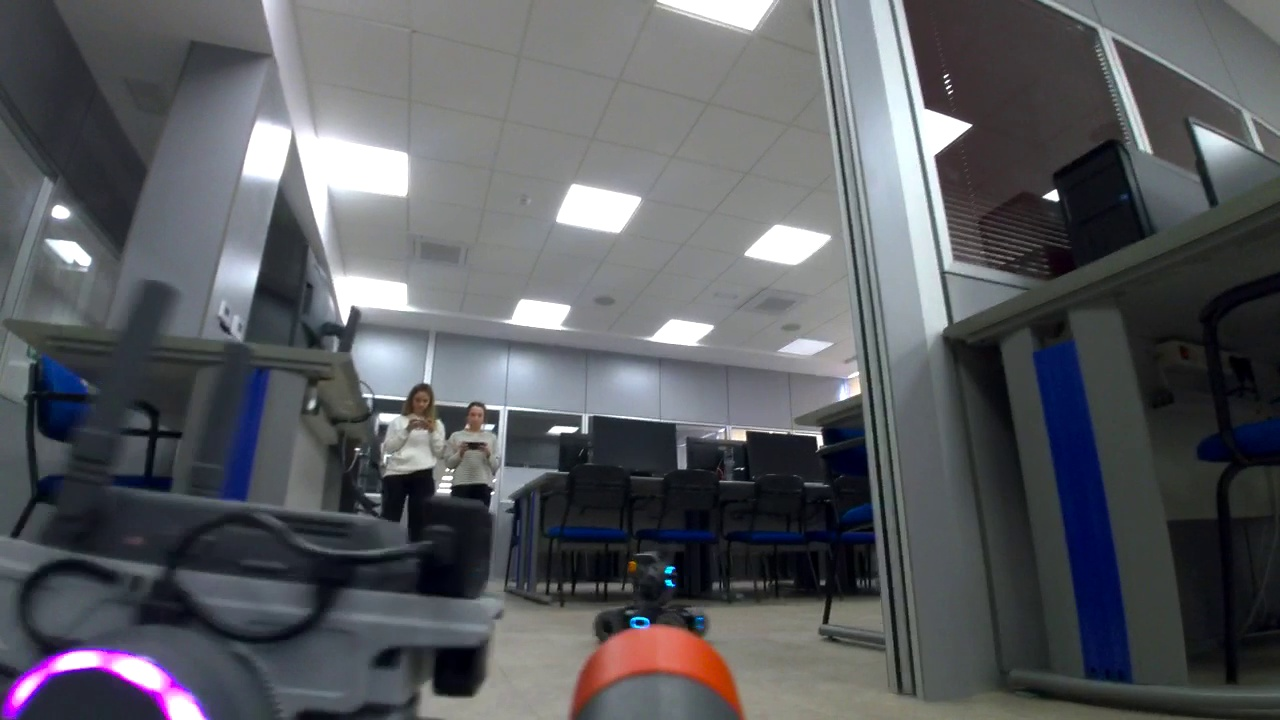robot: (9, 477, 498, 716), (597, 545, 710, 643)
